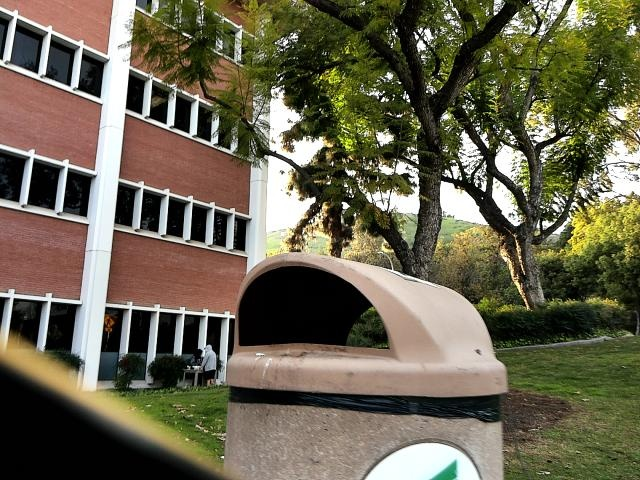trashcan: (221, 240, 510, 480)
